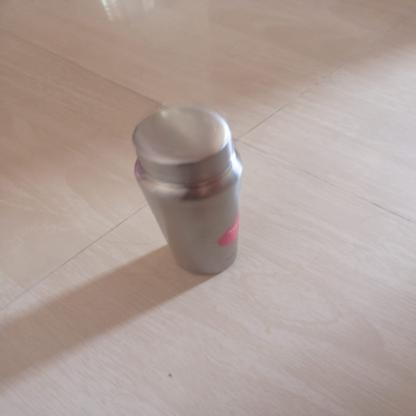bottle: (115, 102, 269, 281)
